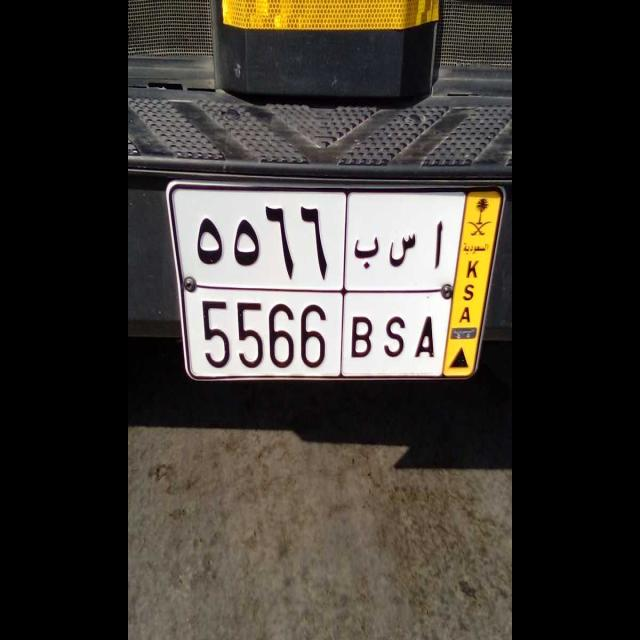license_plate: (182, 290, 452, 380)
